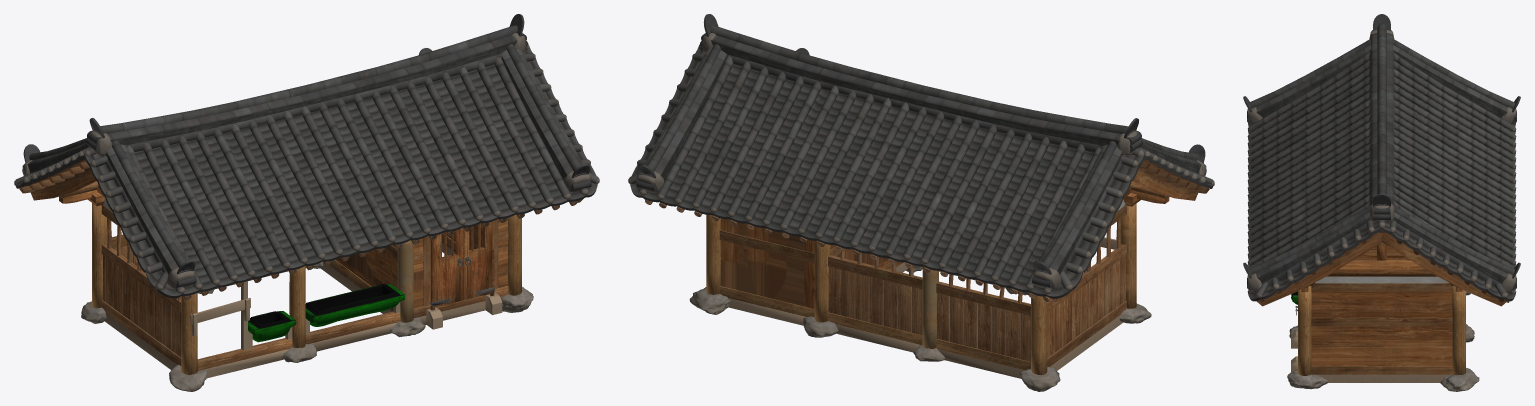
Rendered from stable.glb.
3 views of the same model, side by side, from view 1: azimuth 30°, elevation 25°; view 2: azimuth 150°, elevation 25°; view 3: azimuth 270°, elevation 25° (orthographic). The views are drawn at different scales.
Visible parts, largest first — view 1: SM_24ET0018_Roof02_M_24ET0018_Roof02_0, SM_24ET0018_Roof02_M_24ET0018_Roof01_0, SM_24ET0018_Roof01_M_24ET0018_Roof03_0, SM_24ET0018_Roof03_M_24ET0018_Roof03_0, SM_24ET0018_Pillar_M_24ET0018_Pillar_0, SM_24ET0018_Wood06_M_24ET0018_Wood06_0, SM_24ET0018_Wood03_M_24ET0018_Wood03_0, SM_24ET0018_Manger_M_24ET0018_Manger_0, SM_24ET0018_Concrete01_M_24ET0018_Concrete01_0, SM_24ET0018_Wall_M_24ET0018_Wall_0, SM_24ET0018_Roof04_M_24ET0018_Roof02_0, SM_24ET0018_Roof04_M_24ET0018_Roof01_0 (+9 smaller); view 2: SM_24ET0018_Roof02_M_24ET0018_Roof02_0, SM_24ET0018_Roof02_M_24ET0018_Roof01_0, SM_24ET0018_Roof01_M_24ET0018_Roof03_0, SM_24ET0018_Roof03_M_24ET0018_Roof03_0, SM_24ET0018_Wood03_M_24ET0018_Wood03_0, SM_24ET0018_Pillar_M_24ET0018_Pillar_0, SM_24ET0018_Wall_M_24ET0018_Wall_0, SM_24ET0018_Wood06_M_24ET0018_Wood06_0, SM_24ET0018_Wood04_M_24ET0018_Wood04_0, SM_24ET0018_Wood07_M_24ET0018_Wood07_0, SM_24ET0018_Concrete01_M_24ET0018_Concrete01_0, SM_24ET0018_Foundationstone_M_24ET0018_Foundationstone_0 (+6 smaller); view 3: SM_24ET0018_Roof02_M_24ET0018_Roof01_0, SM_24ET0018_Wall_M_24ET0018_Wall_0, SM_24ET0018_Roof03_M_24ET0018_Roof03_0, SM_24ET0018_Roof02_M_24ET0018_Roof02_0, SM_24ET0018_Roof01_M_24ET0018_Roof03_0, SM_24ET0018_Wood03_M_24ET0018_Wood03_0, SM_24ET0018_Bakgong_M_24ET0018_Bakgong_0, SM_24ET0018_Pillar_M_24ET0018_Pillar_0, SM_24ET0018_Roof04_M_24ET0018_Roof02_0, SM_24ET0018_Roof04_M_24ET0018_Roof01_0, SM_24ET0018_Wood01_M_24ET0018_Wood01_0, SM_24ET0018_Foundationstone_M_24ET0018_Foundationstone_0 (+4 smaller).
Boxes of the visible parts, bbox=[...] form: SM_24ET0018_Roof02_M_24ET0018_Roof02_0: bbox=[134, 64, 586, 295]; SM_24ET0018_Roof02_M_24ET0018_Roof01_0: bbox=[127, 57, 588, 293]; SM_24ET0018_Roof01_M_24ET0018_Roof03_0: bbox=[85, 25, 528, 152]; SM_24ET0018_Roof03_M_24ET0018_Roof03_0: bbox=[22, 44, 591, 287]; SM_24ET0018_Pillar_M_24ET0018_Pillar_0: bbox=[92, 203, 521, 374]; SM_24ET0018_Wood06_M_24ET0018_Wood06_0: bbox=[101, 243, 181, 366]; SM_24ET0018_Wood03_M_24ET0018_Wood03_0: bbox=[101, 205, 508, 370]; SM_24ET0018_Manger_M_24ET0018_Manger_0: bbox=[248, 283, 404, 342]; SM_24ET0018_Concrete01_M_24ET0018_Concrete01_0: bbox=[104, 242, 502, 378]; SM_24ET0018_Wall_M_24ET0018_Wall_0: bbox=[335, 218, 507, 308]; SM_24ET0018_Roof04_M_24ET0018_Roof02_0: bbox=[16, 47, 597, 295]; SM_24ET0018_Roof04_M_24ET0018_Roof01_0: bbox=[14, 44, 599, 298]; SM_24ET0018_Roof02_M_24ET0018_Roof02_0: bbox=[641, 64, 1093, 296]; SM_24ET0018_Roof02_M_24ET0018_Roof01_0: bbox=[639, 55, 1101, 294]; SM_24ET0018_Roof01_M_24ET0018_Roof03_0: bbox=[700, 25, 1142, 152]; SM_24ET0018_Roof03_M_24ET0018_Roof03_0: bbox=[636, 44, 1206, 288]; SM_24ET0018_Wood03_M_24ET0018_Wood03_0: bbox=[719, 205, 1126, 370]; SM_24ET0018_Pillar_M_24ET0018_Pillar_0: bbox=[706, 203, 1136, 374]; SM_24ET0018_Wall_M_24ET0018_Wall_0: bbox=[720, 218, 888, 308]; SM_24ET0018_Wood06_M_24ET0018_Wood06_0: bbox=[1047, 244, 1126, 366]; SM_24ET0018_Wood04_M_24ET0018_Wood04_0: bbox=[937, 219, 1121, 361]; SM_24ET0018_Wood07_M_24ET0018_Wood07_0: bbox=[828, 248, 922, 335]; SM_24ET0018_Concrete01_M_24ET0018_Concrete01_0: bbox=[728, 262, 1122, 378]; SM_24ET0018_Foundationstone_M_24ET0018_Foundationstone_0: bbox=[689, 265, 1151, 391]; SM_24ET0018_Roof02_M_24ET0018_Roof01_0: bbox=[1247, 51, 1516, 294]; SM_24ET0018_Wall_M_24ET0018_Wall_0: bbox=[1311, 246, 1452, 366]; SM_24ET0018_Roof03_M_24ET0018_Roof03_0: bbox=[1247, 39, 1516, 290]; SM_24ET0018_Roof02_M_24ET0018_Roof02_0: bbox=[1248, 60, 1515, 266]; SM_24ET0018_Roof01_M_24ET0018_Roof03_0: bbox=[1369, 24, 1394, 220]; SM_24ET0018_Wood03_M_24ET0018_Wood03_0: bbox=[1311, 283, 1452, 374]; SM_24ET0018_Bakgong_M_24ET0018_Bakgong_0: bbox=[1256, 230, 1507, 306]; SM_24ET0018_Pillar_M_24ET0018_Pillar_0: bbox=[1298, 286, 1465, 375]; SM_24ET0018_Roof04_M_24ET0018_Roof02_0: bbox=[1248, 222, 1515, 298]; SM_24ET0018_Roof04_M_24ET0018_Roof01_0: bbox=[1250, 220, 1513, 301]; SM_24ET0018_Wood01_M_24ET0018_Wood01_0: bbox=[1301, 244, 1462, 291]; SM_24ET0018_Foundationstone_M_24ET0018_Foundationstone_0: bbox=[1287, 291, 1479, 391].
Bounding box in the file's own units: 8.92 × 4.78 × 5.58.
23 materials, 23 textured.
